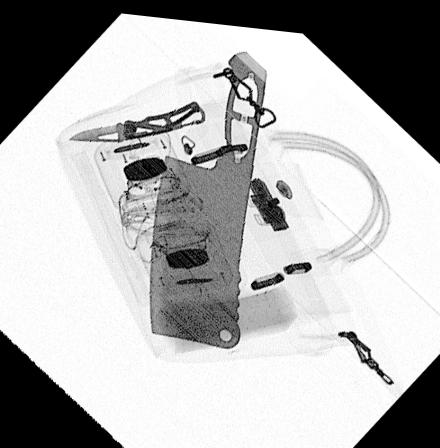Knife: (148, 46, 266, 345), (66, 96, 205, 141)
